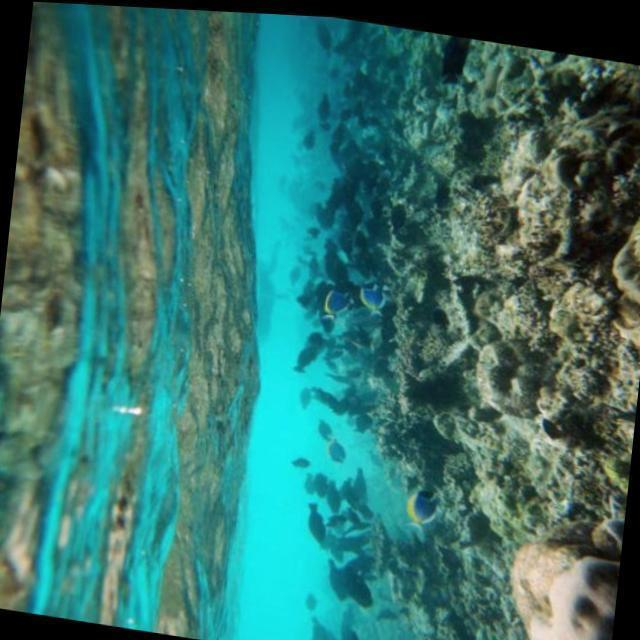Dead Coral: (325, 29, 640, 640)
